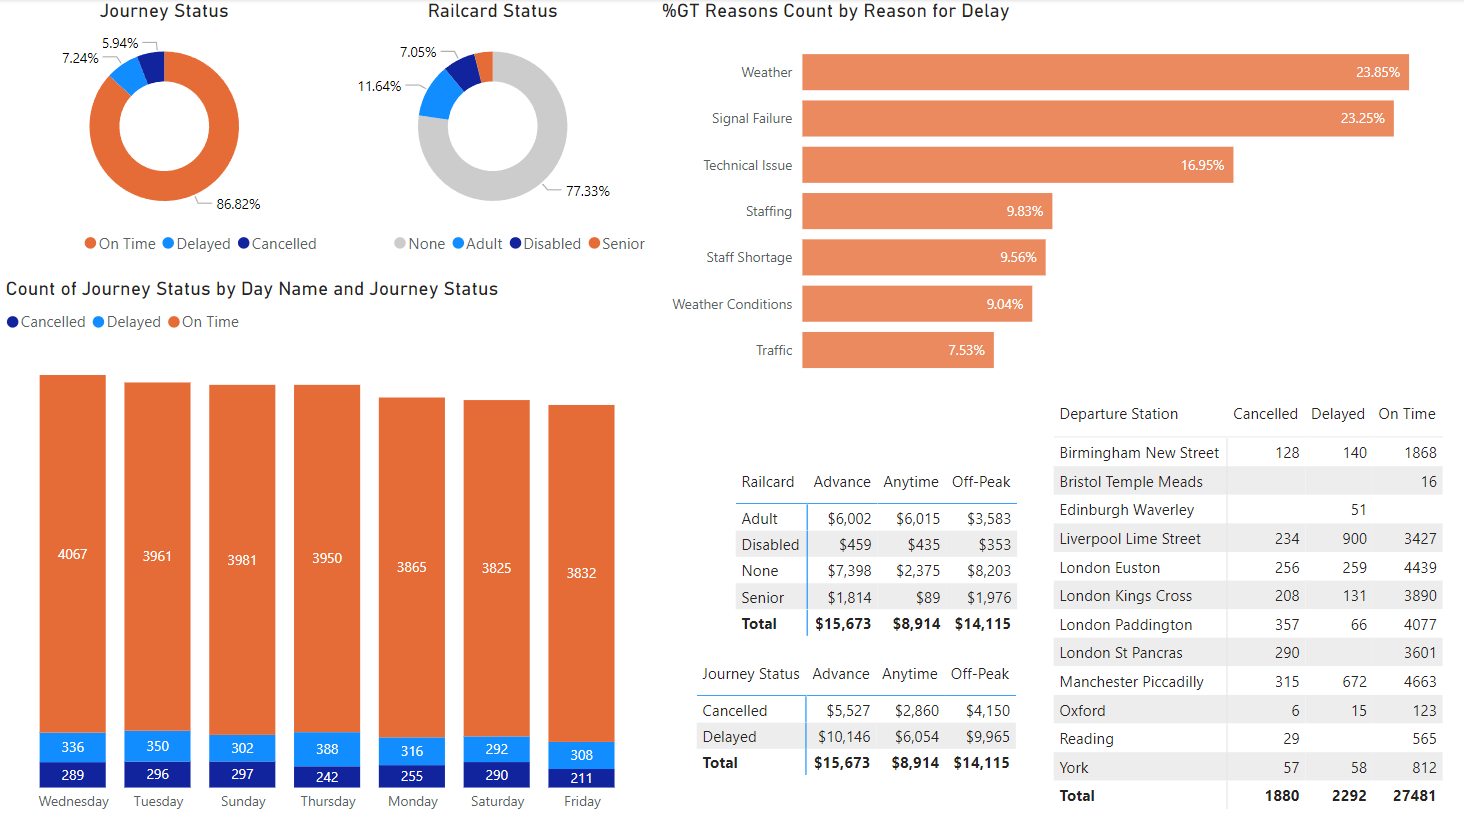

The dashboard page shown, as its layout file describes it:
{"tool":"powerbi","page":{"name":"Side Dashboard","canvas":[1280,720],"ordinal":1},"visuals":[{"type":"barChart","fields":{"Category":["railway.Reason for Delay"],"Y":["railway.Reasons Count"]},"box":[573.5,0,706.5,344.7],"z":0},{"type":"columnChart","fields":{"Category":["railway.Day Name"],"Y":["CountNonNull(railway.Journey Status)"],"Series":["railway.Journey Status"]},"box":[0,242.9,573.5,476.7],"z":1000},{"type":"pivotTable","fields":{"Rows":["railway.Departure Station"],"Columns":["railway.Journey Status"],"Values":["railway.Status Count"]},"box":[916.2,344.7,363.8,374.9],"z":2000},{"type":"donutChart","title":"Journey Status","fields":{"Category":["railway.Journey Status"],"Y":["railway.Trips"]},"box":[0,0,287.2,232.8],"z":3000},{"type":"donutChart","title":"Railcard Status","fields":{"Category":["railway.Railcard"],"Y":["railway.Total Price"]},"box":[287.2,0,286.2,232.8],"z":4000},{"type":"pivotTable","fields":{"Rows":["railway.Journey Status"],"Columns":["railway.Ticket Type"],"Values":["railway.Refund_Yes"]},"box":[603.7,572.5,299.3,119.9],"z":5000},{"type":"pivotTable","fields":{"Rows":["railway.Railcard"],"Columns":["railway.Ticket Type"],"Values":["railway.Refund_Yes"]},"box":[638,405.2,257,167.3],"z":6000}]}

Visuals, with their boxes in screenshot pixels (x1, y1, x2, y2), scaled from the page's 1280x720 canvas onto the 1464x823 screenshot:
barChart - railway.Reason for Delay x railway.Reasons Count: bbox=[656, 0, 1463, 394]
columnChart - railway.Day Name x CountNonNull(railway.Journey Status): bbox=[0, 278, 656, 822]
pivotTable - railway.Departure Station x railway.Journey Status: bbox=[1048, 394, 1463, 822]
"Journey Status" donutChart: bbox=[0, 0, 328, 266]
"Railcard Status" donutChart: bbox=[328, 0, 656, 266]
pivotTable - railway.Journey Status x railway.Ticket Type: bbox=[690, 654, 1033, 791]
pivotTable - railway.Railcard x railway.Ticket Type: bbox=[730, 463, 1024, 654]
